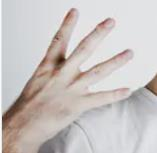right: (28, 7, 134, 138)
